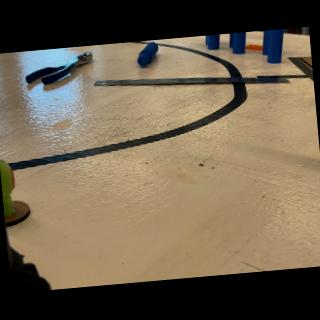teletubby: (0, 159, 15, 217)
